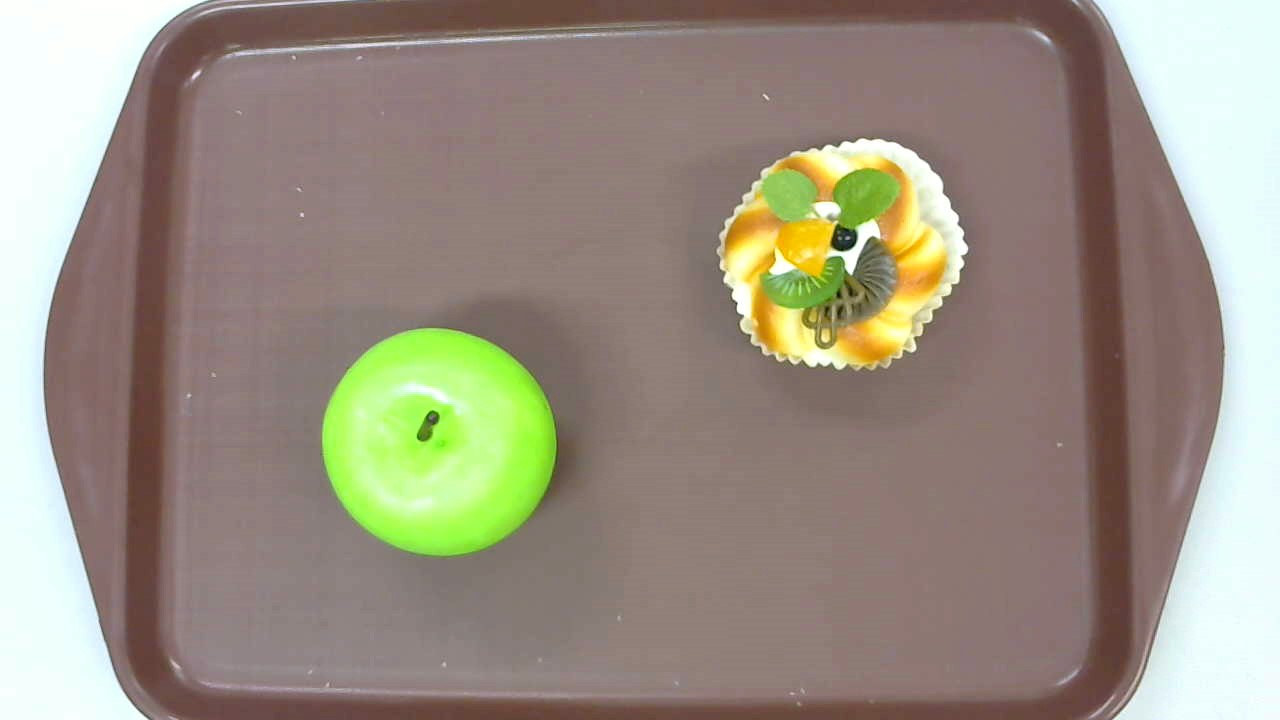fruit tart: (716, 137, 968, 374)
green apple: (321, 328, 557, 556)
